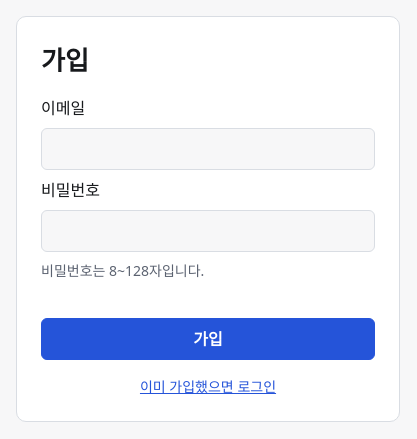
it: 가입·로그인 › 가입은 비밀번호 규칙(8~128자)을 먼저 보고, 어기면 보내지 않는다
Step 1. Type "kim@example.com" into the field labelled "이메일" → (208, 149), box left=41, top=128, right=375, bottom=170
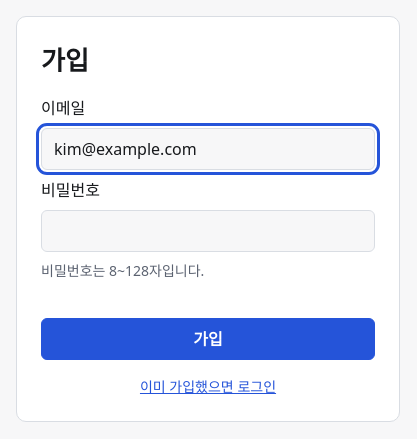
Step 2. Type "short" into the password field labelled "비밀번호" → (208, 231), box left=41, top=210, right=375, bottom=252
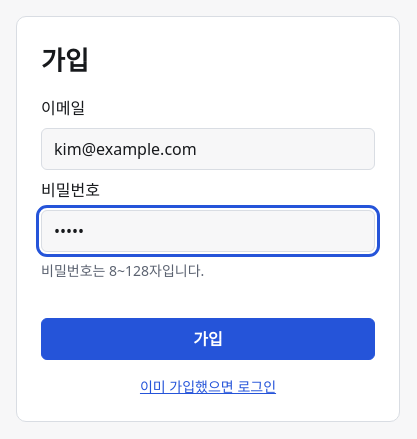
Step 3. Click the button "가입" → (208, 339), box left=41, top=318, right=375, bottom=360
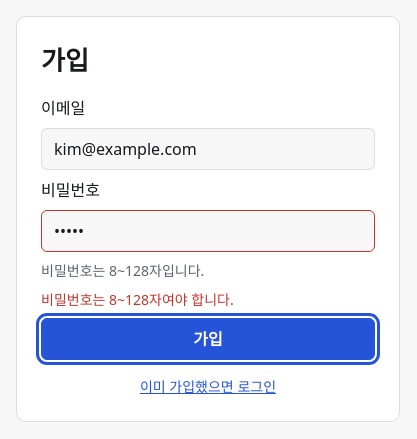
expect the message reads "비밀번호는 8~128자여야 합니다.": met, box left=41, top=290, right=234, bottom=309
